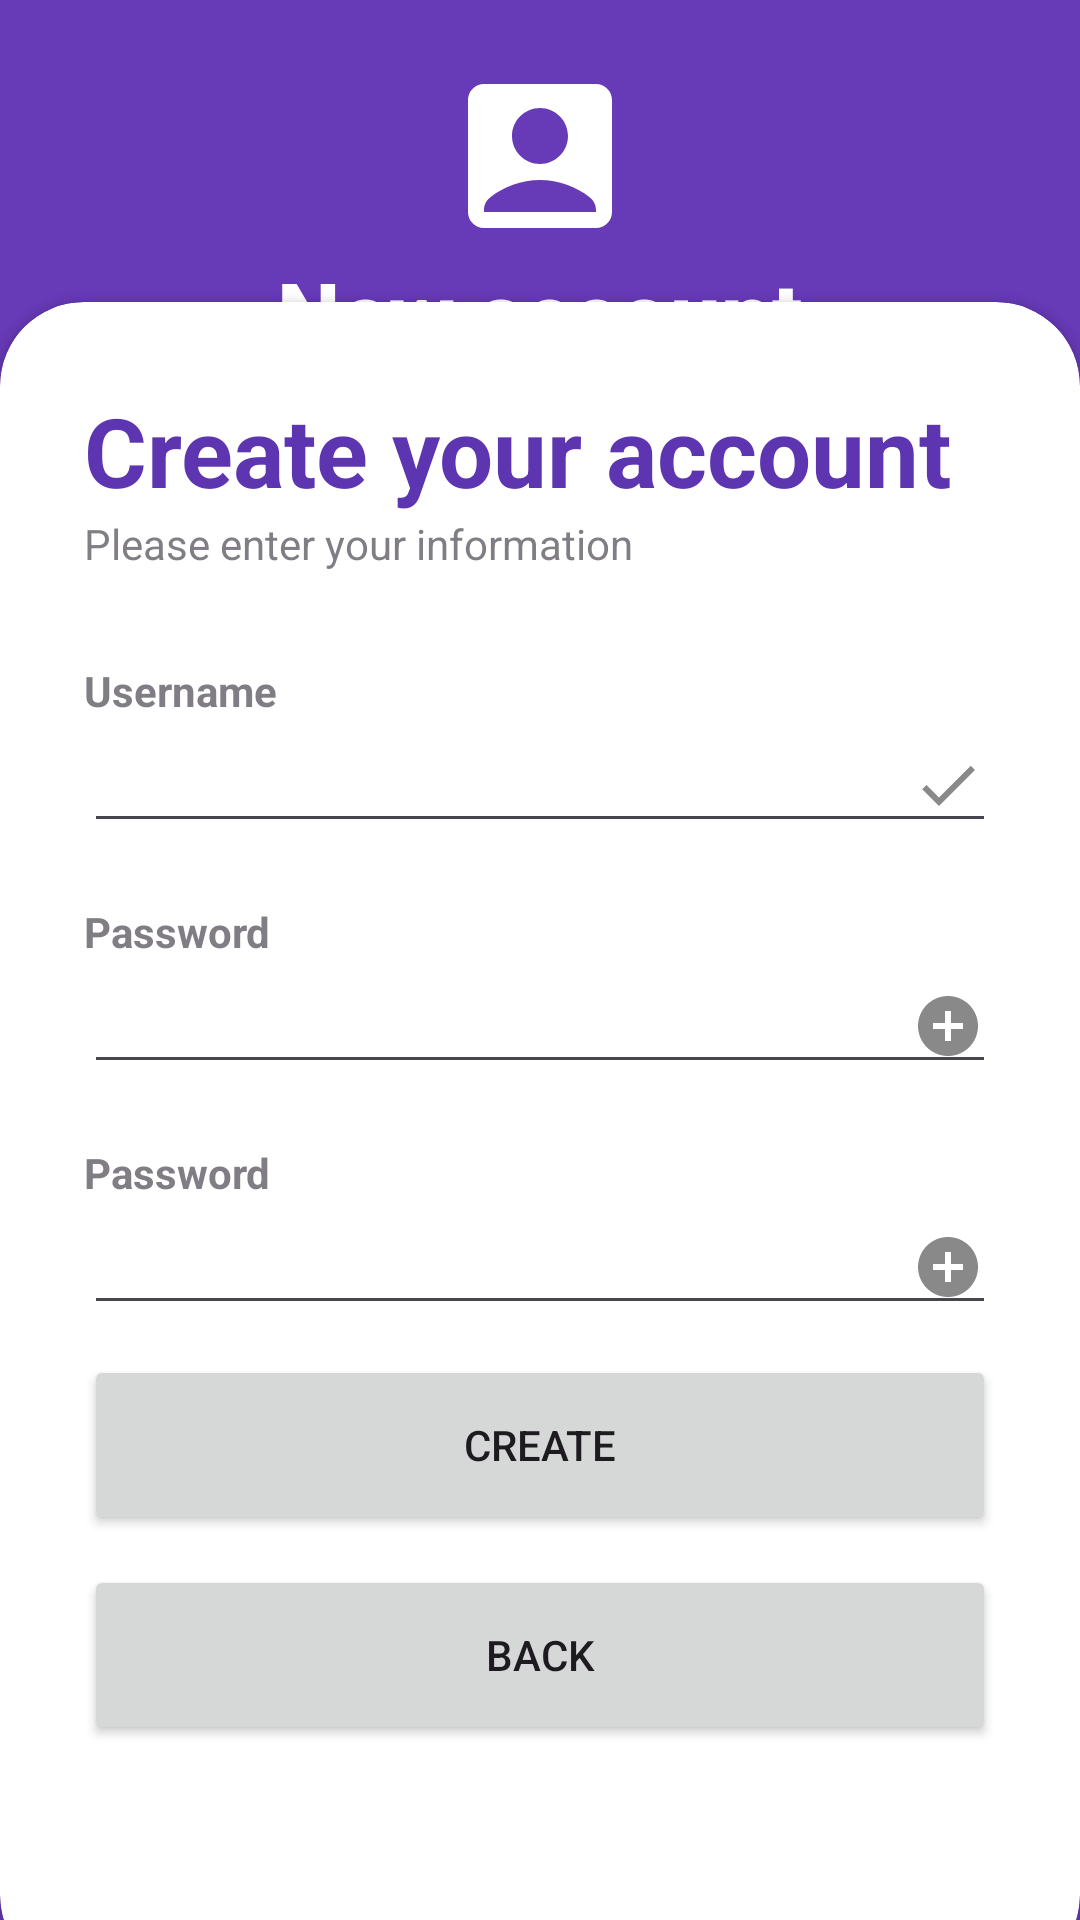

Screen size 1080*1920. Icon name, then its box in pixels as {"x1": x1, "y1": y1, "x2": x2, "y2": y2}:
account box: {"x1": 468, "y1": 84, "x2": 612, "y2": 228}
